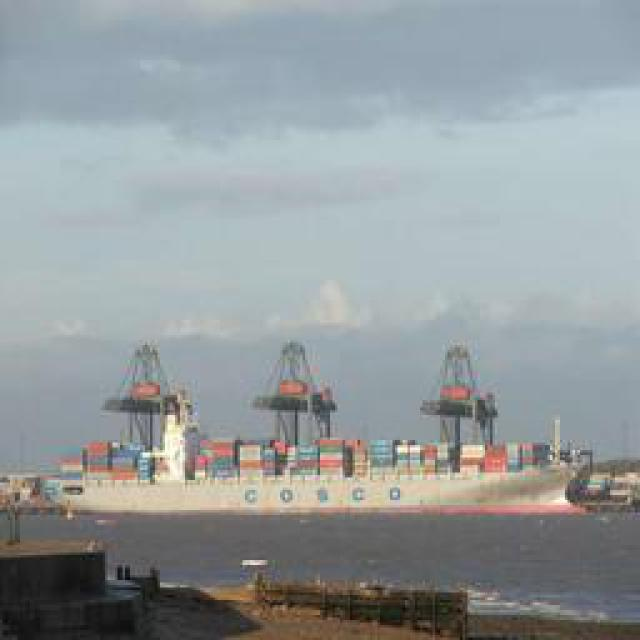Ship: (67, 334, 577, 534)
